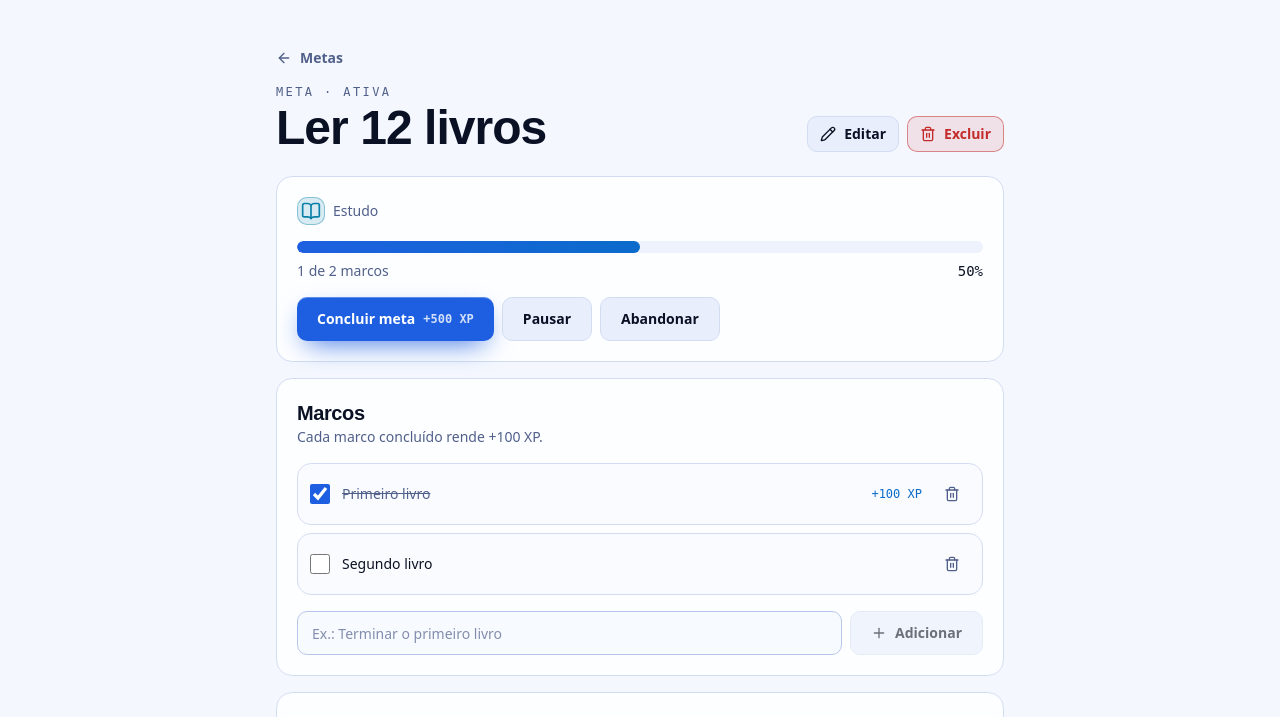
GoalDetailPage › status da meta › a subida de nível da meta aparece depois da comemoração fechar
The image size is (1280, 717).
Click the button "Concluir meta +500 XP" at coordinates (395, 319), box [297,297,494,341]
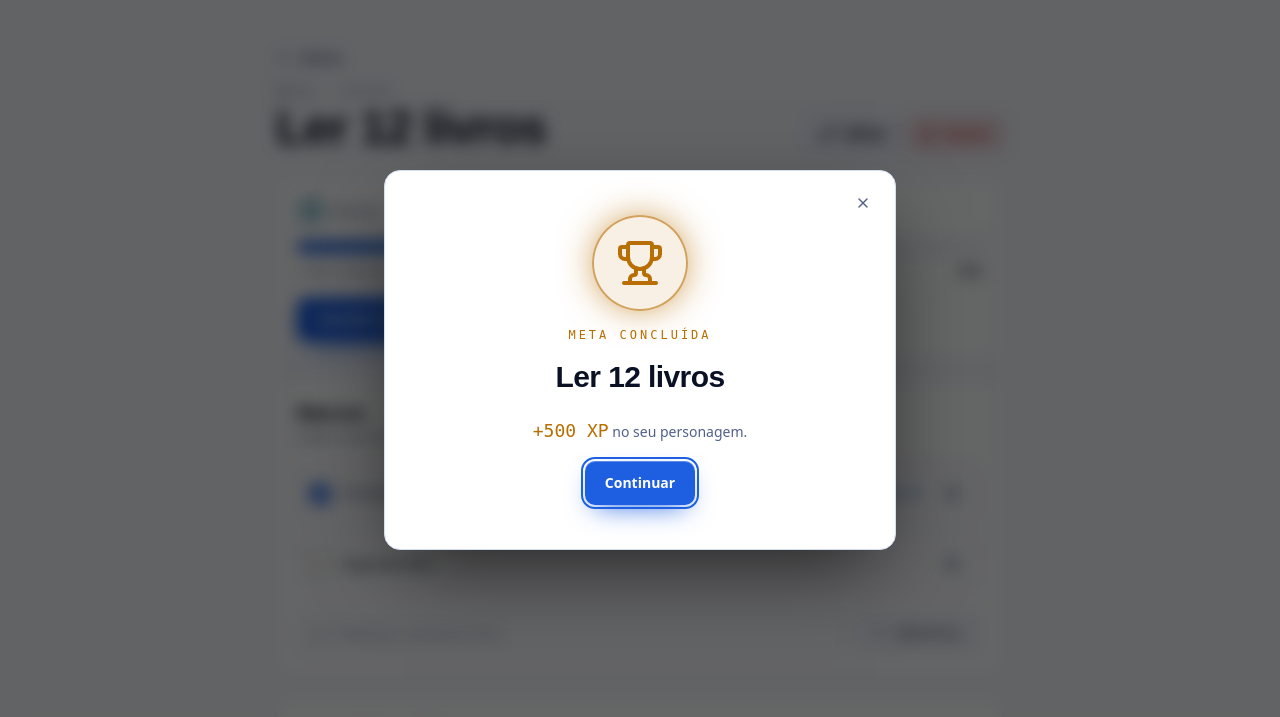
Check: the text "Você chegou ao nível 4" is not shown
Check: the text "Meta concluída" is shown, box [568,327,712,343]
Click the button "Continuar" at coordinates (640, 483), box [585,461,695,505]
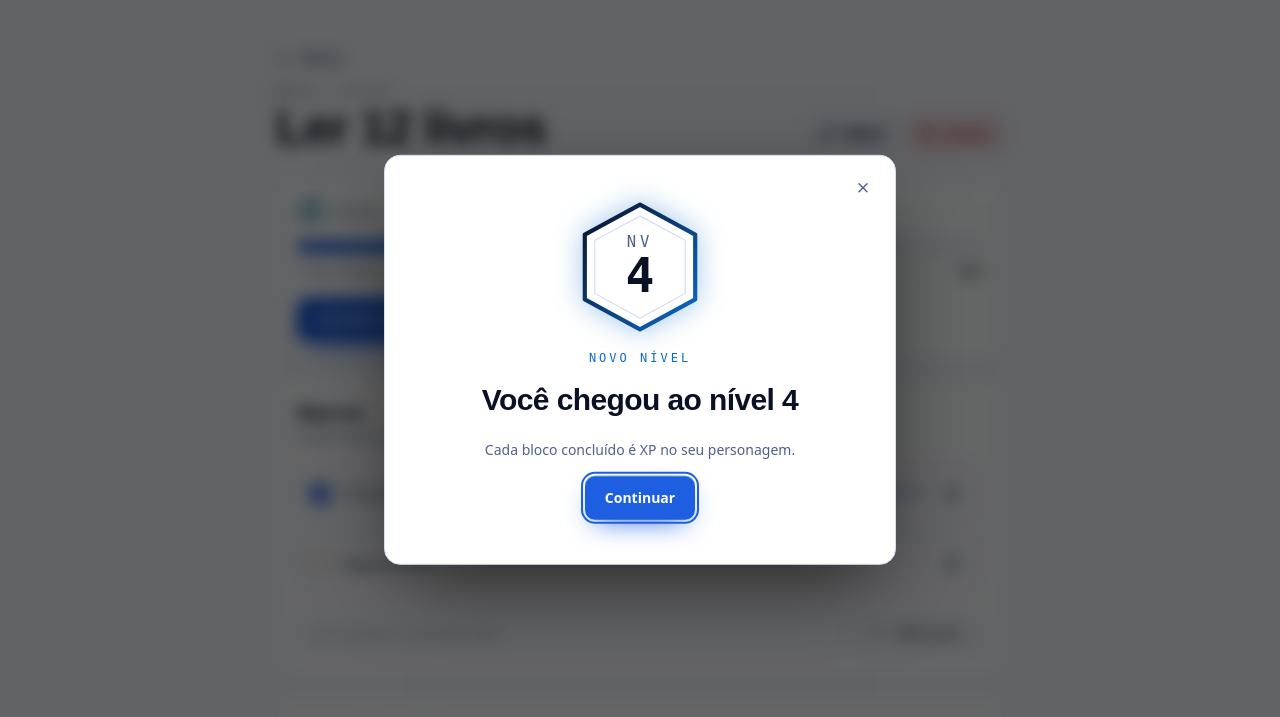
Check: the heading "Você chegou ao nível 4" is shown, box [482,382,798,418]
